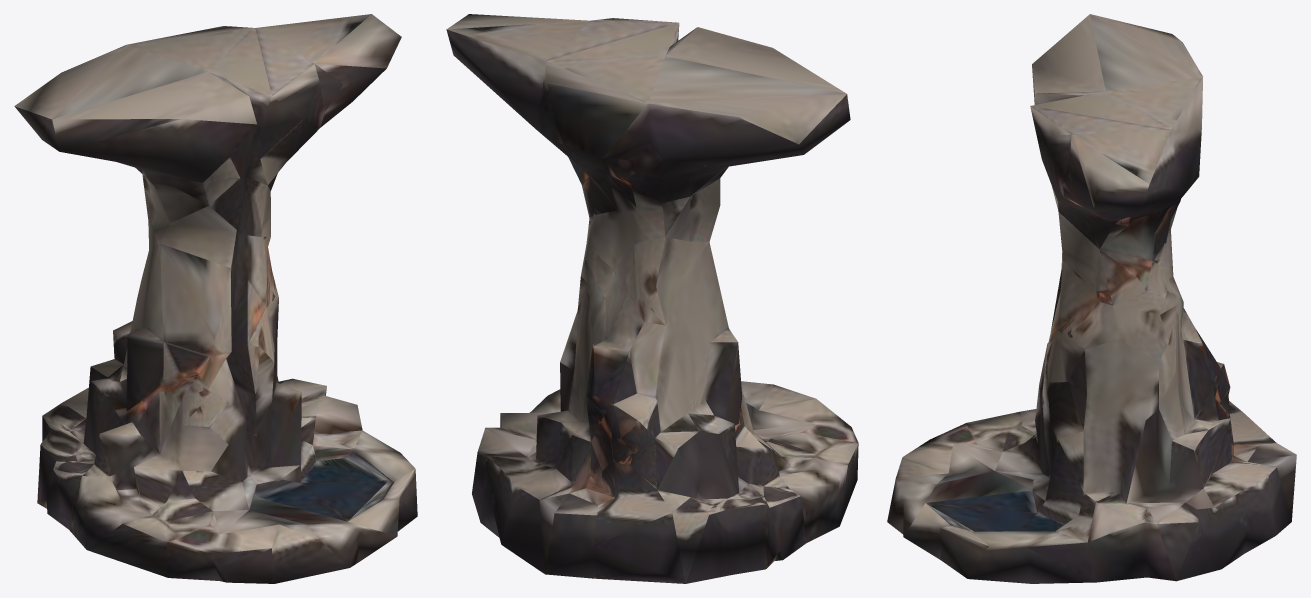
File: repere-enclume-loin.glb
3 views of the same model, side by side, from view 1: azimuth 30°, elevation 25°; view 2: azimuth 150°, elevation 25°; view 3: azimuth 270°, elevation 25° (orthographic). The views are drawn at different scales.
Visible parts, largest first — view 1: repere-enclume-loin; view 2: repere-enclume-loin; view 3: repere-enclume-loin.
Boxes of the visible parts, <box> form: repere-enclume-loin: <box>14,14,417,583</box>; repere-enclume-loin: <box>446,14,858,583</box>; repere-enclume-loin: <box>887,14,1296,583</box>.
Size of the model in its own units: 1.64 by 1.9 by 1.67.
Materials: 1 (1 with a texture image).
